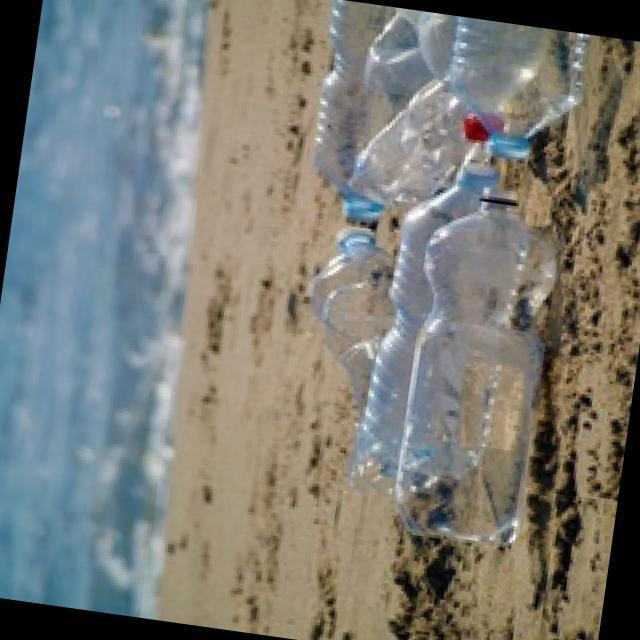good: (389, 188, 616, 556)
